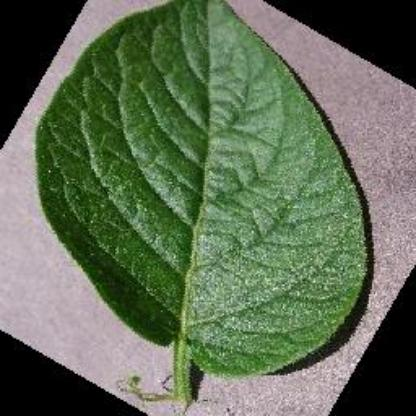Healthy-plant: (32, 0, 374, 402)
